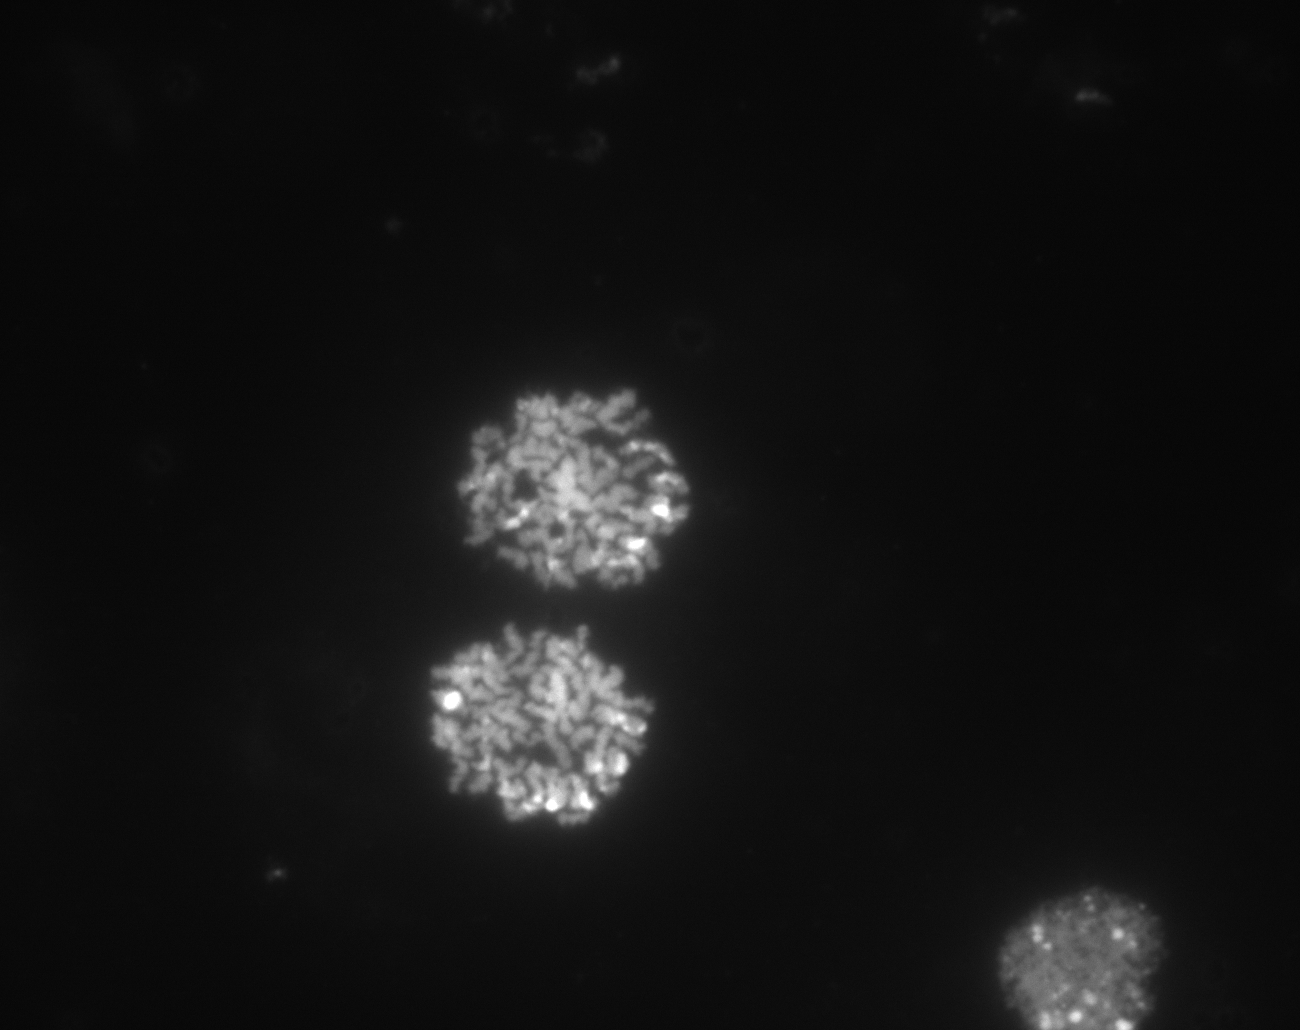Chromosomes: (410, 337, 731, 597), (418, 611, 670, 857)
Others: (976, 861, 1193, 1030)
